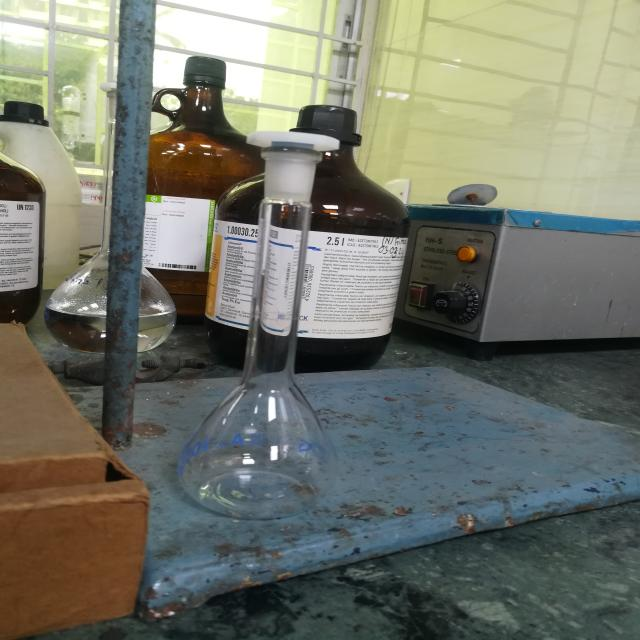Volumetric_Flask: (155, 102, 394, 528)
